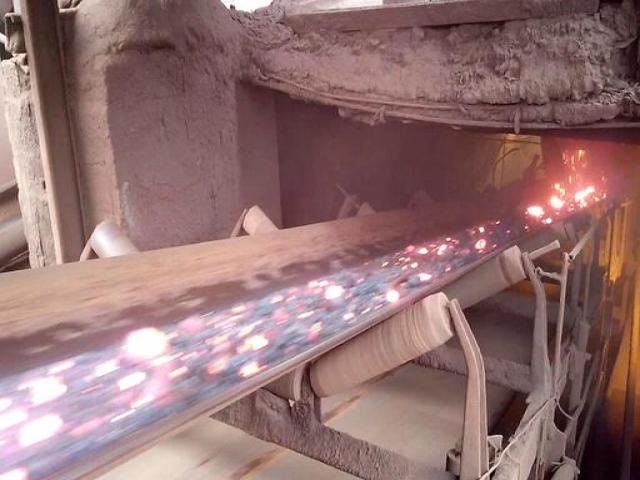conveyor: (0, 182, 640, 472)
